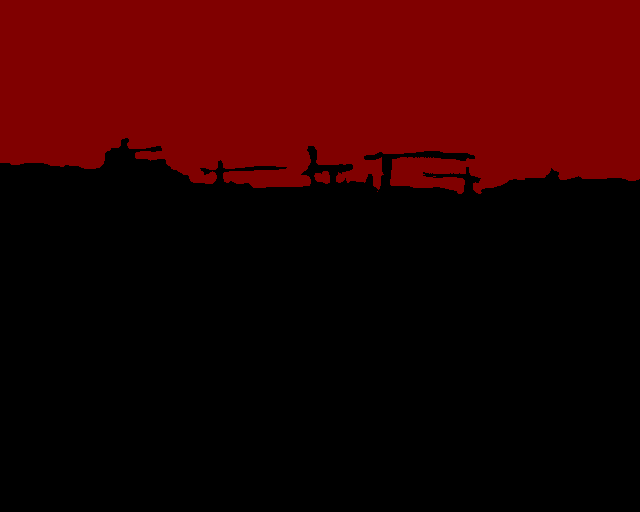Sky: (1, 1, 639, 194)
